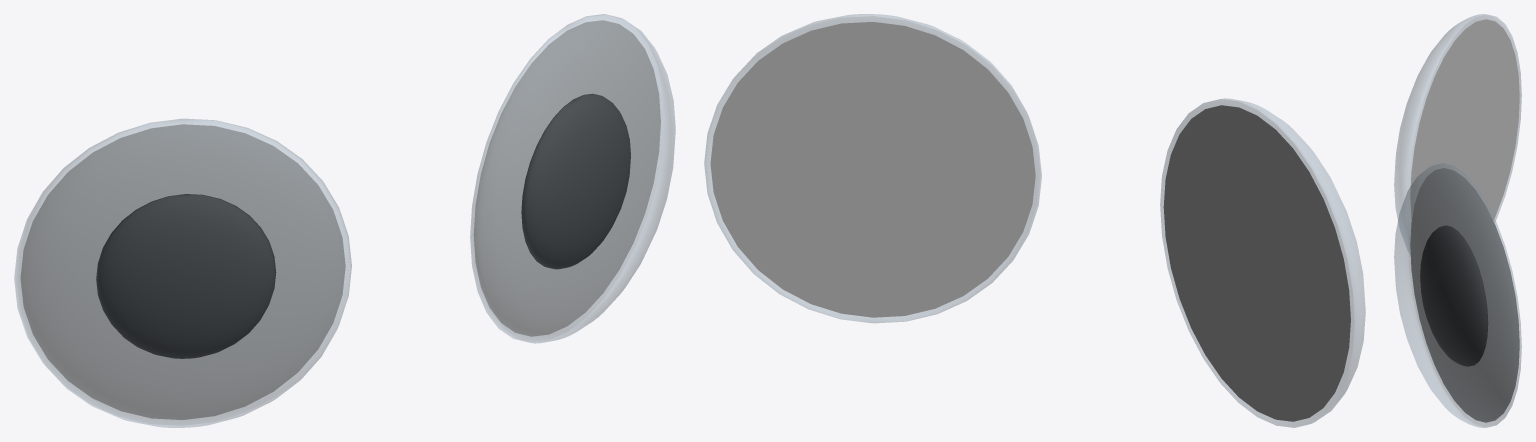
Rendered from Hat_GooglyEyes.fbx.
3 renders of one model, left to right at view 1: azimuth 30°, elevation 25°; view 2: azimuth 150°, elevation 25°; view 3: azimuth 270°, elevation 25°, orthographic. The views are drawn at different scales.
Parts seen in each view (by area): view 1: Eye, Eyeball; view 2: Eye; view 3: Eye, Eyeball.
Part boxes in pixels (left/top/right/bottom): Eye: left=14, top=14, right=675, bottom=427; Eyeball: left=96, top=93, right=630, bottom=358; Eye: left=704, top=14, right=1365, bottom=427; Eye: left=1394, top=14, right=1521, bottom=427; Eyeball: left=1420, top=225, right=1488, bottom=366.
Size of the model in its own units: 206 by 92.38 by 43.89.
